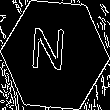N_S: (35, 28, 75, 82)
